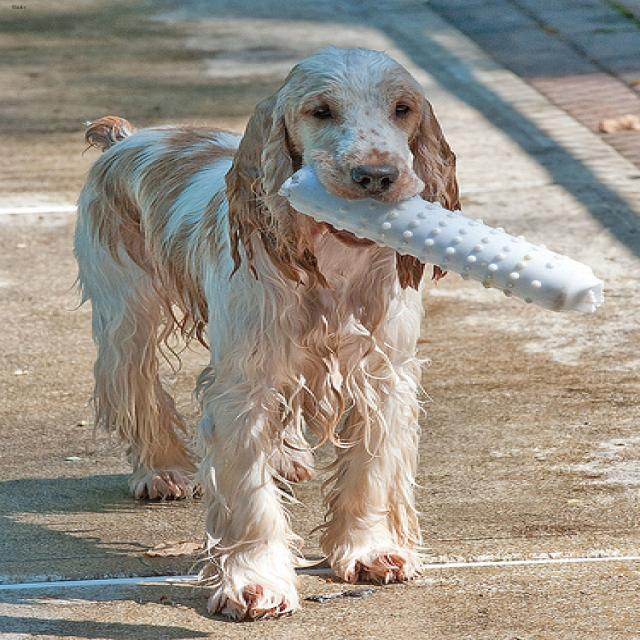dog-english_cocker_spaniel: (56, 36, 469, 634)
